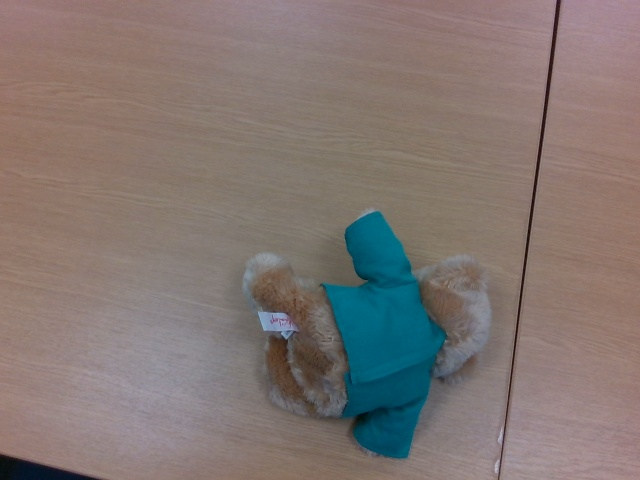teddy: (243, 208, 493, 458)
